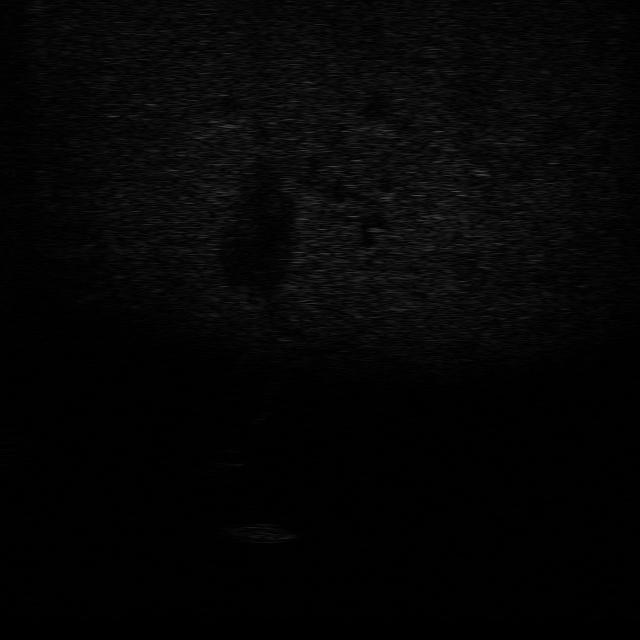ball: (206, 444, 250, 469)
circle cage: (211, 516, 294, 546)
human body: (246, 374, 288, 426)
